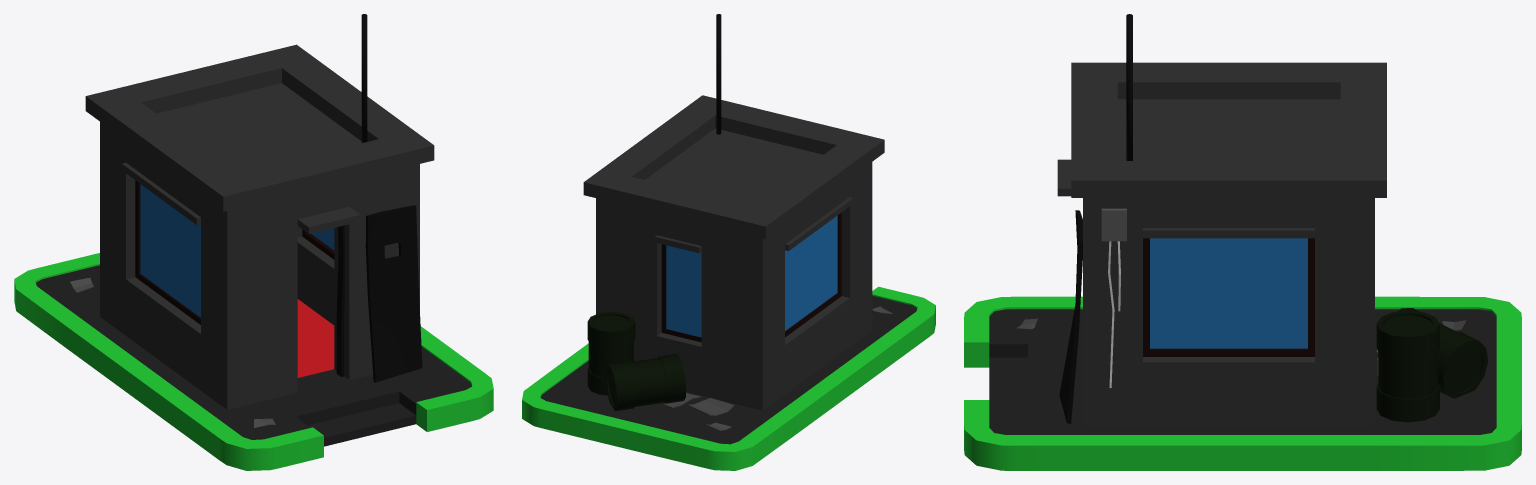
3 renders of one model, left to right at view 1: azimuth 30°, elevation 25°; view 2: azimuth 150°, elevation 25°; view 3: azimuth 270°, elevation 25°, orthographic. The views are drawn at different scales.
Visible parts, largest first — view 1: Cube.005, Cube (×3), Cube.006, Cube.003, Cube.007, Cylinder.004; view 2: Cube.005, Cube (×2), Cube.003, Cube.001, Cube.007, Cube.004, Cylinder.004; view 3: Cube.005, Cube (×2), Cube.003, Cube.001, Cube.007, Cube.006, Cube.008 (×2), Cylinder.004.
Part boxes in pixels (<box>): Cube.005: <box>85,44,434,409</box>; Cube (×3): <box>14,253,493,470</box>; Cube.006: <box>336,205,422,382</box>; Cube.003: <box>140,184,334,317</box>; Cube.007: <box>135,180,334,324</box>; Cylinder.004: <box>361,14,367,142</box>; Cube.005: <box>583,95,884,410</box>; Cube (×2): <box>522,286,935,470</box>; Cube.003: <box>666,215,837,337</box>; Cube.001: <box>587,311,686,411</box>; Cube.007: <box>661,213,841,342</box>; Cube.004: <box>664,306,892,430</box>; Cylinder.004: <box>716,14,721,134</box>; Cube.005: <box>1057,62,1386,426</box>; Cube (×2): <box>964,296,1521,470</box>; Cube.003: <box>1150,238,1307,348</box>; Cube.001: <box>1376,308,1488,422</box>; Cube.007: <box>1143,238,1314,356</box>; Cube.006: <box>1059,210,1082,423</box>; Cube.008 (×2): <box>1101,208,1126,387</box>; Cylinder.004: <box>1126,14,1132,160</box>.
Size of the model in its own units: 1.26 by 1.64 by 2.
